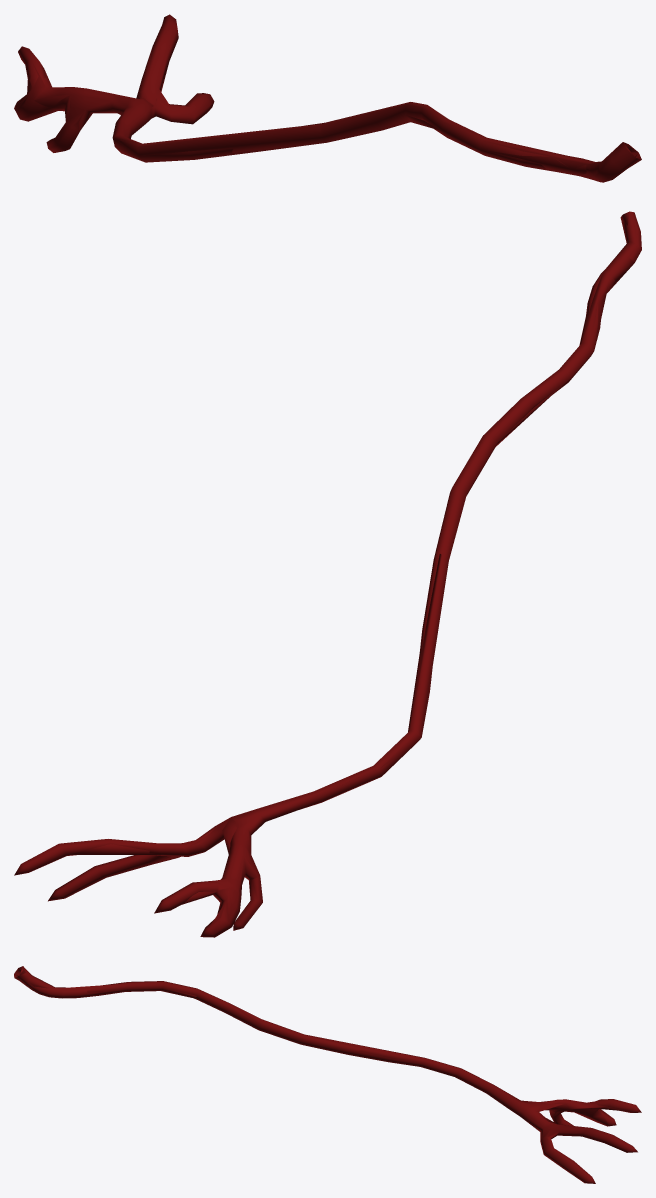
Rendered from R arteria vaginalis.fbx.
3 renders of one model, top to bottom at view 1: azimuth 30°, elevation 25°; view 2: azimuth 150°, elevation 25°; view 3: azimuth 270°, elevation 25°, orthographic. The views are drawn at different scales.
Parts seen in each view (by area): view 1: R arteria vaginalis, R arteria vaginalis low; view 2: R arteria vaginalis, R arteria vaginalis low; view 3: R arteria vaginalis, R arteria vaginalis low.
Boxes of the visible parts, x1,y1,x2,y2 form: R arteria vaginalis: (14,14,641,182); R arteria vaginalis low: (16,17,638,179); R arteria vaginalis: (14,211,641,937); R arteria vaginalis low: (29,212,641,933); R arteria vaginalis: (14,966,641,1183); R arteria vaginalis low: (14,966,629,1137).
Size of the model in its own units: 3.83 by 5.68 by 16.47.
